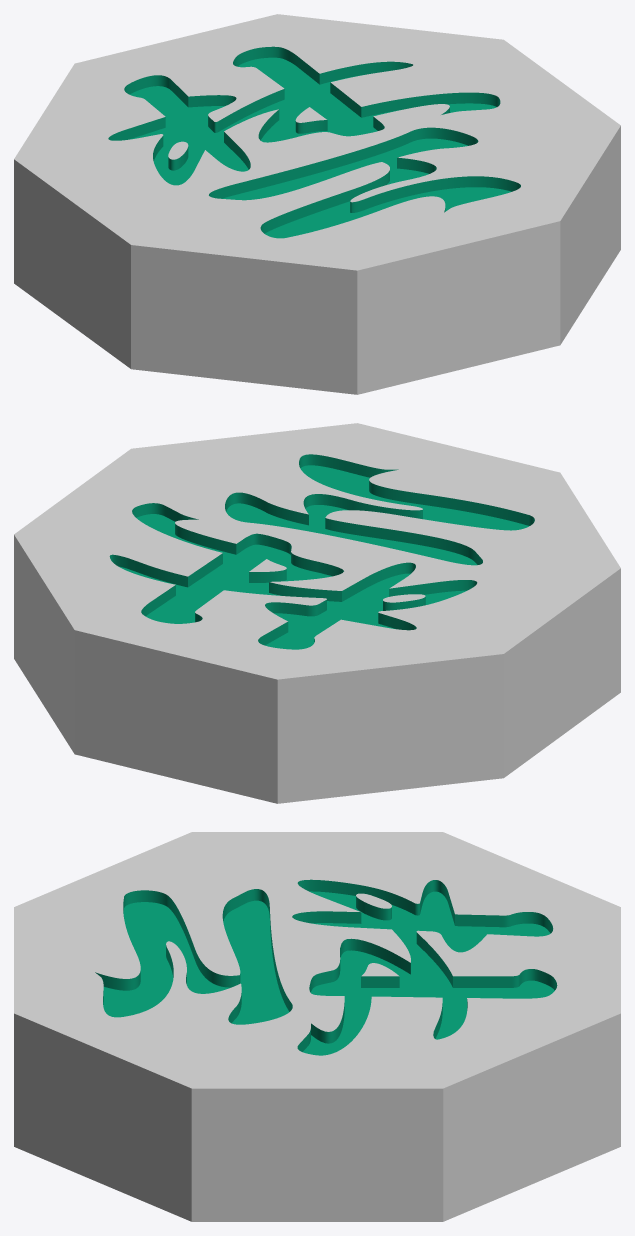
3 renders of one model, top to bottom at view 1: azimuth 30°, elevation 25°; view 2: azimuth 150°, elevation 25°; view 3: azimuth 270°, elevation 25°, orthographic. The views are drawn at different scales.
Visible parts, largest first — view 1: 초_궁; view 2: 초_궁; view 3: 초_궁.
Boxes of the visible parts, box(x1,y1,x2,y2) form: 초_궁: box(14, 14, 620, 394); 초_궁: box(14, 423, 620, 803); 초_궁: box(14, 832, 620, 1221).
Bounding box in the file's own units: 3300 × 800 × 3300.
